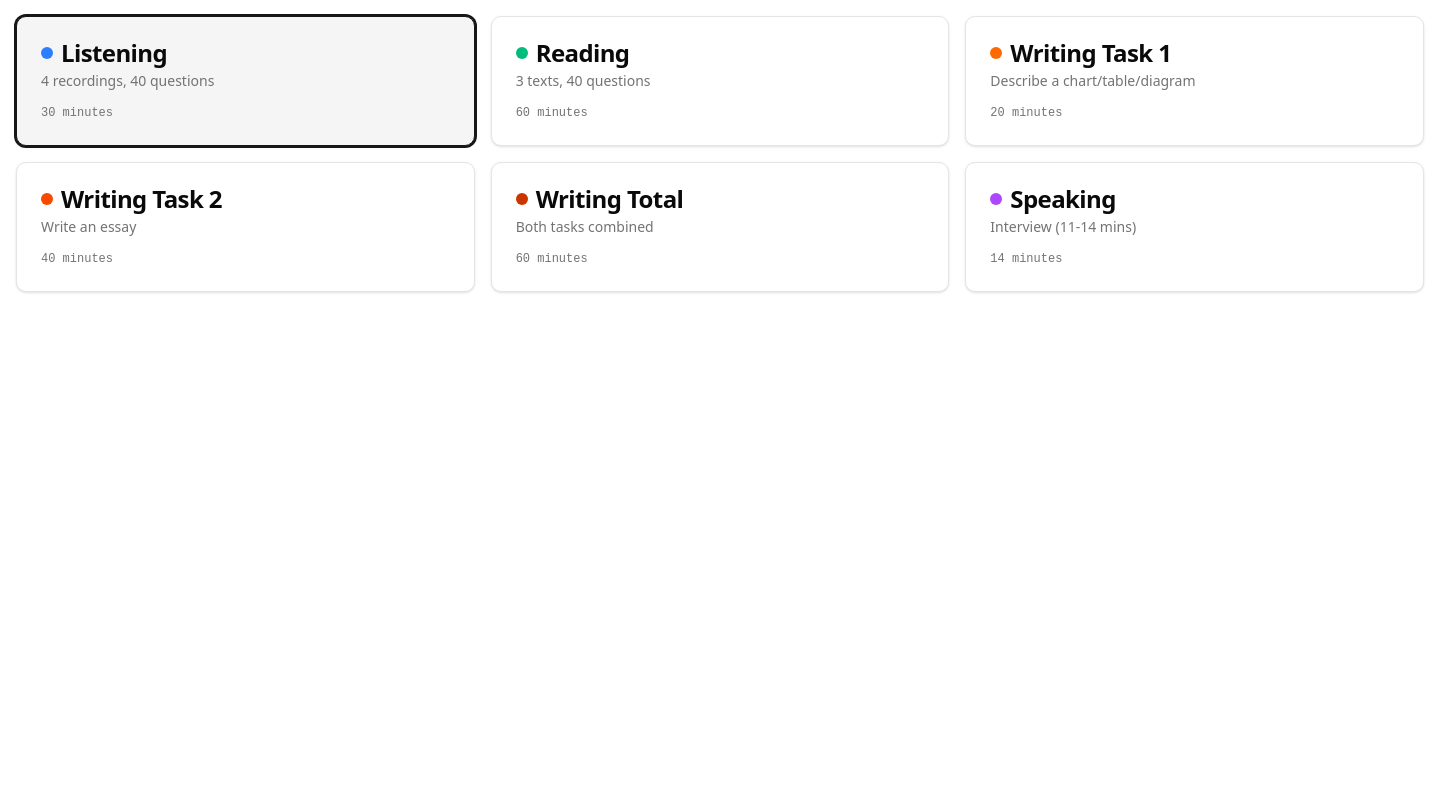
Test: SectionSelector › does not change section when confirmation is cancelled
The image size is (1440, 810).
Click the heading "Reading": (573, 52) [516, 36, 630, 69]
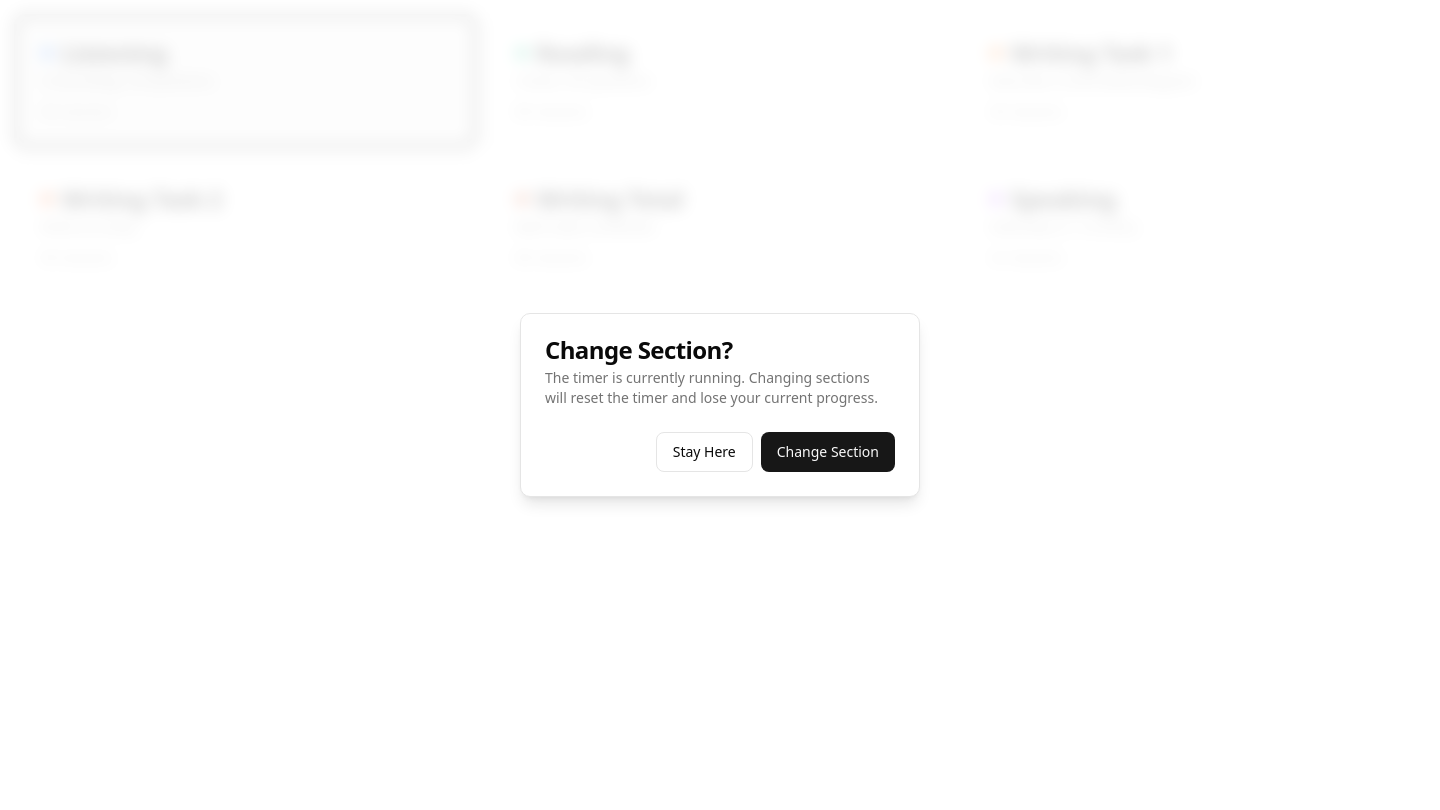
Click Cancel
Click the button "Stay Here": (704, 452) [656, 432, 753, 472]
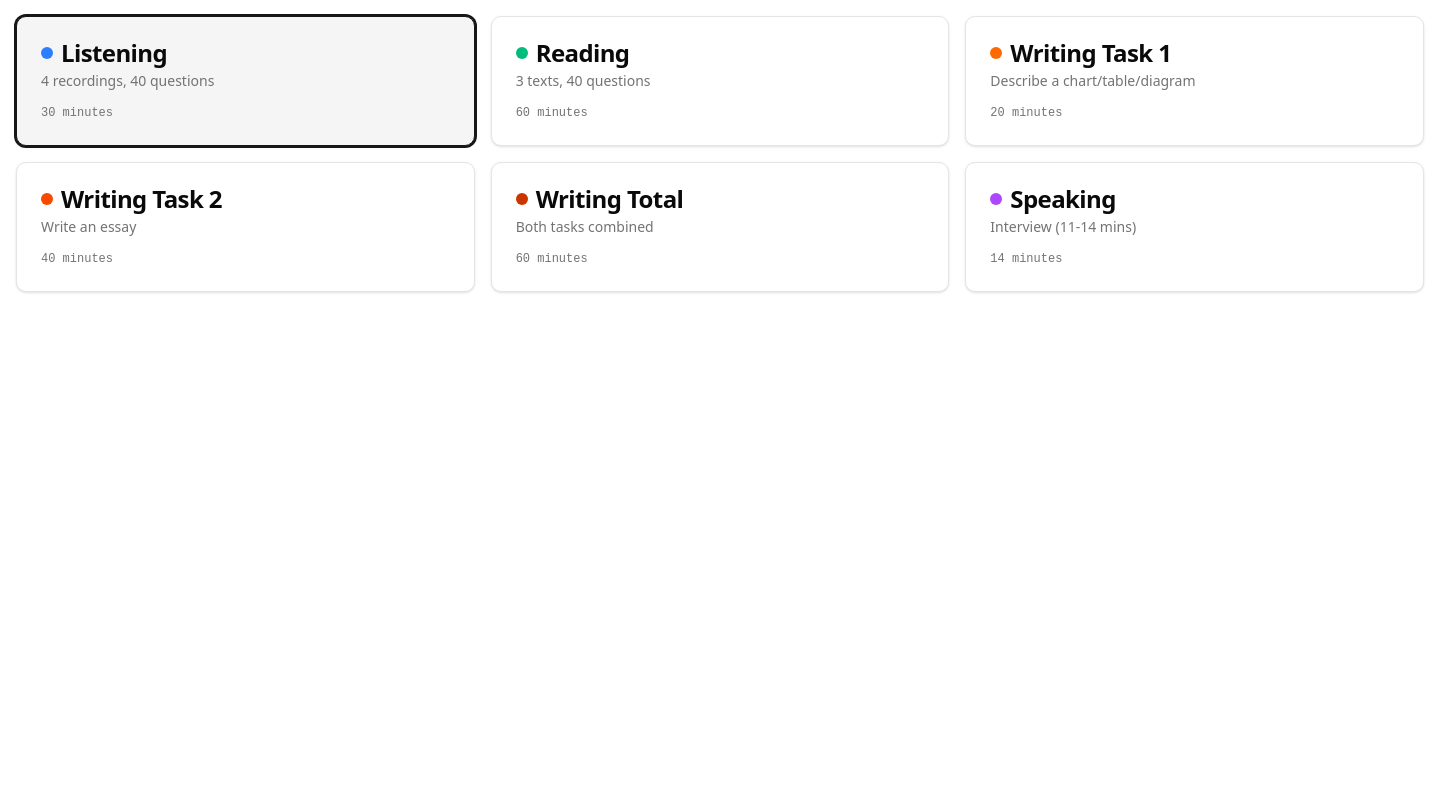
Now the heading "Change Section?" is gone
